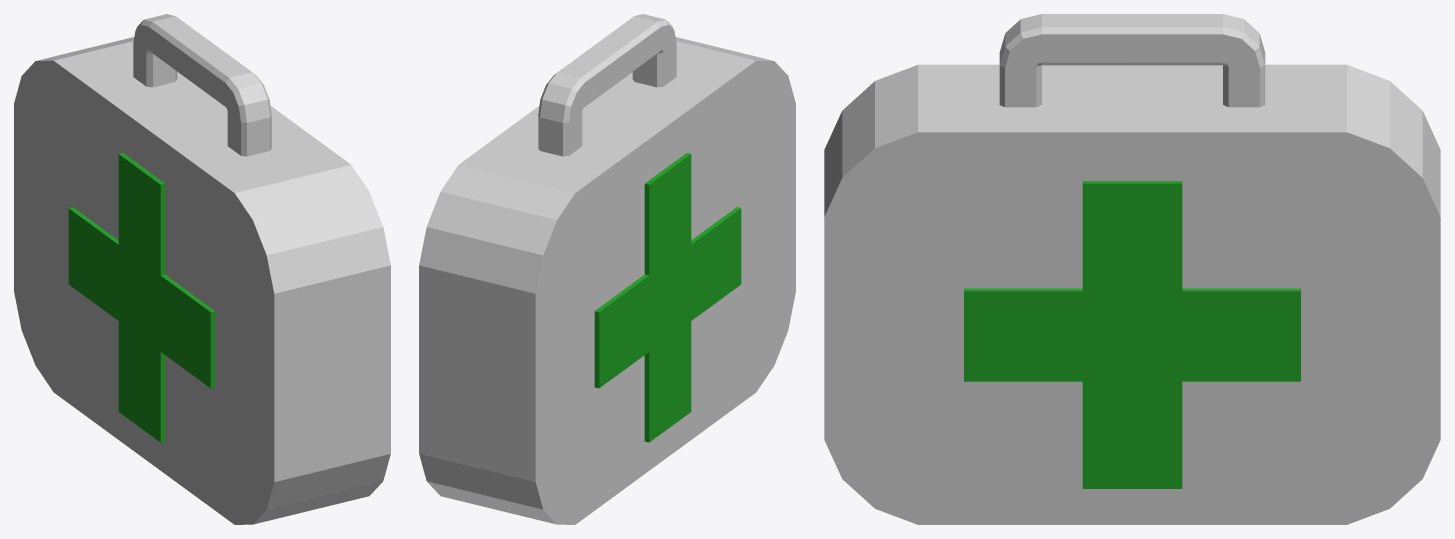
The model's file is Health.fbx.
The picture shows the model from 3 angles, left to right: view 1: azimuth 30°, elevation 25°; view 2: azimuth 150°, elevation 25°; view 3: azimuth 270°, elevation 25°; orthographic projection. The views are drawn at different scales.
Parts seen in each view (by area): view 1: Health; view 2: Health; view 3: Health.
Boxes of the visible parts, left/top/right/bottom form: Health: left=14, top=14, right=390, bottom=524; Health: left=419, top=14, right=795, bottom=524; Health: left=824, top=14, right=1440, bottom=524.
Bounding box in the file's own units: 16.79 × 50.72 × 60.18.
